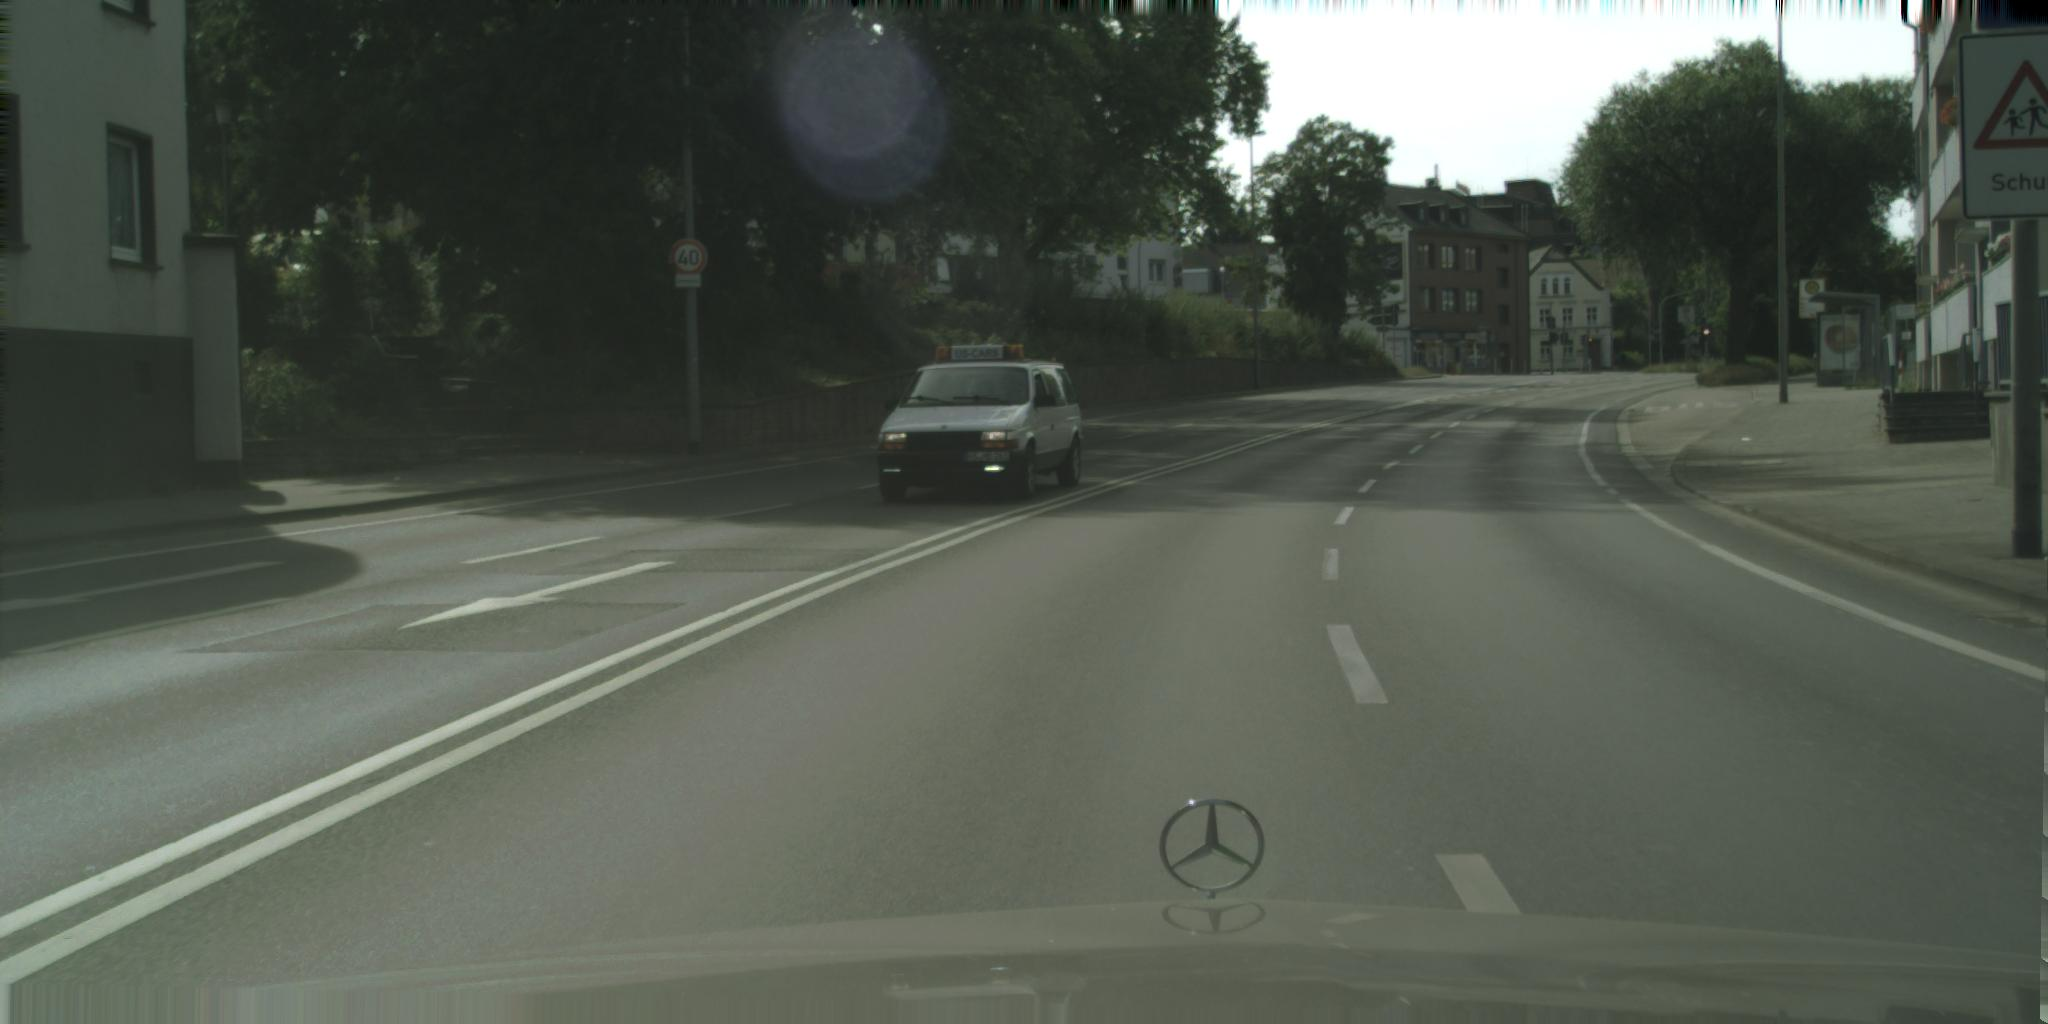car: (876, 344, 1085, 502)
